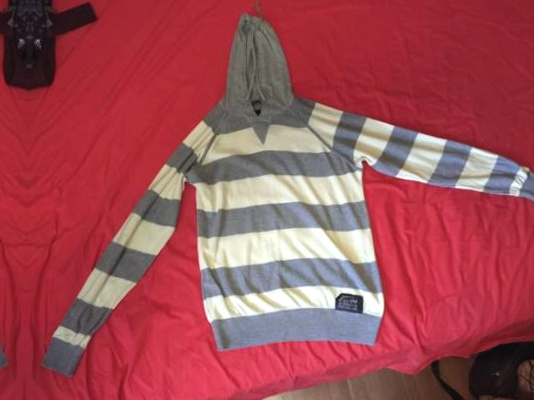Hoodie: (58, 15, 534, 382)
